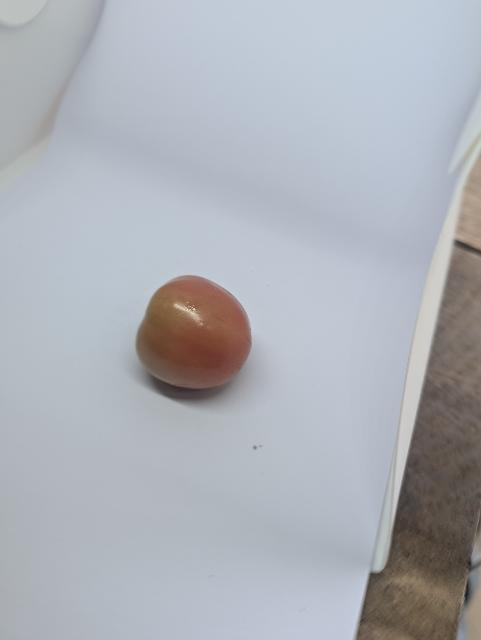turning: (128, 262, 259, 407)
